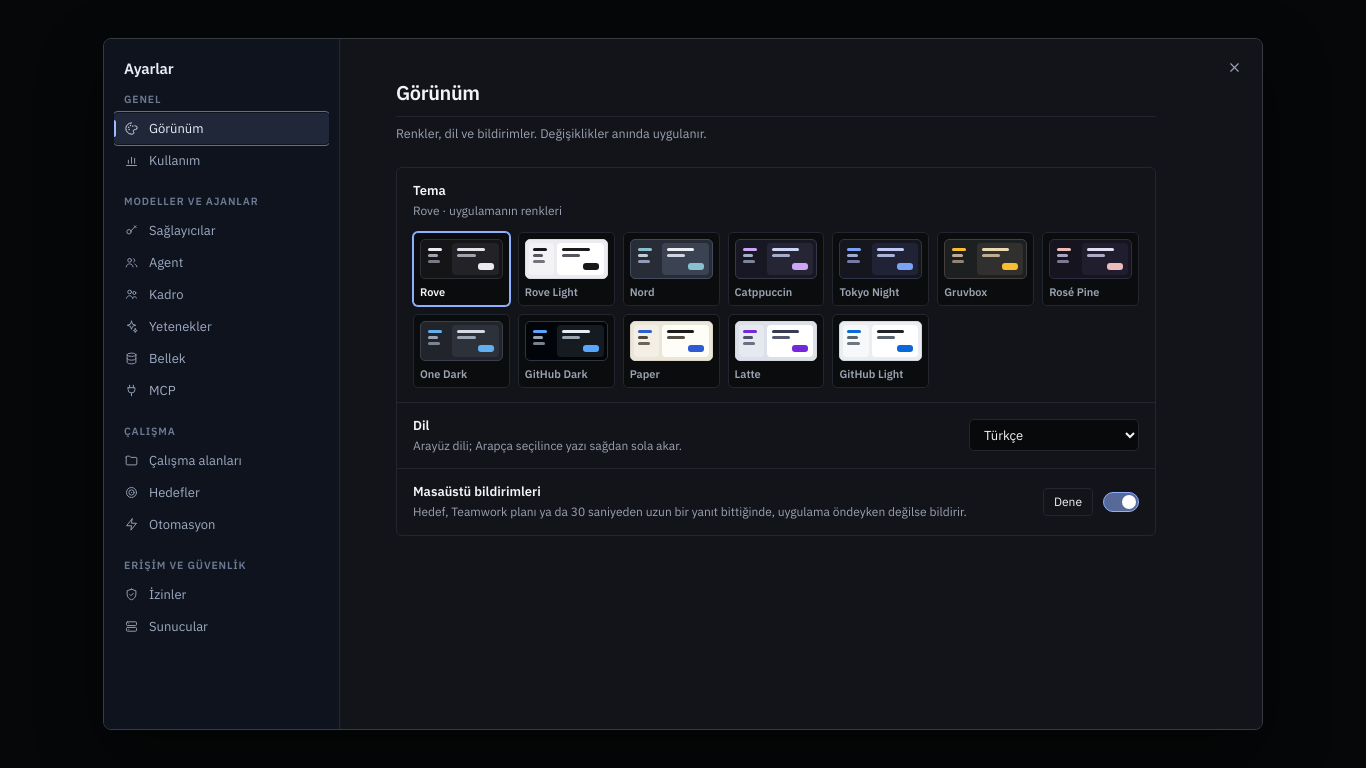
settings: appearance › fits in one card: theme tiles, a language select, a notification switch
Click the radio button labelled "Nord": (671, 269) [623,232,720,306]
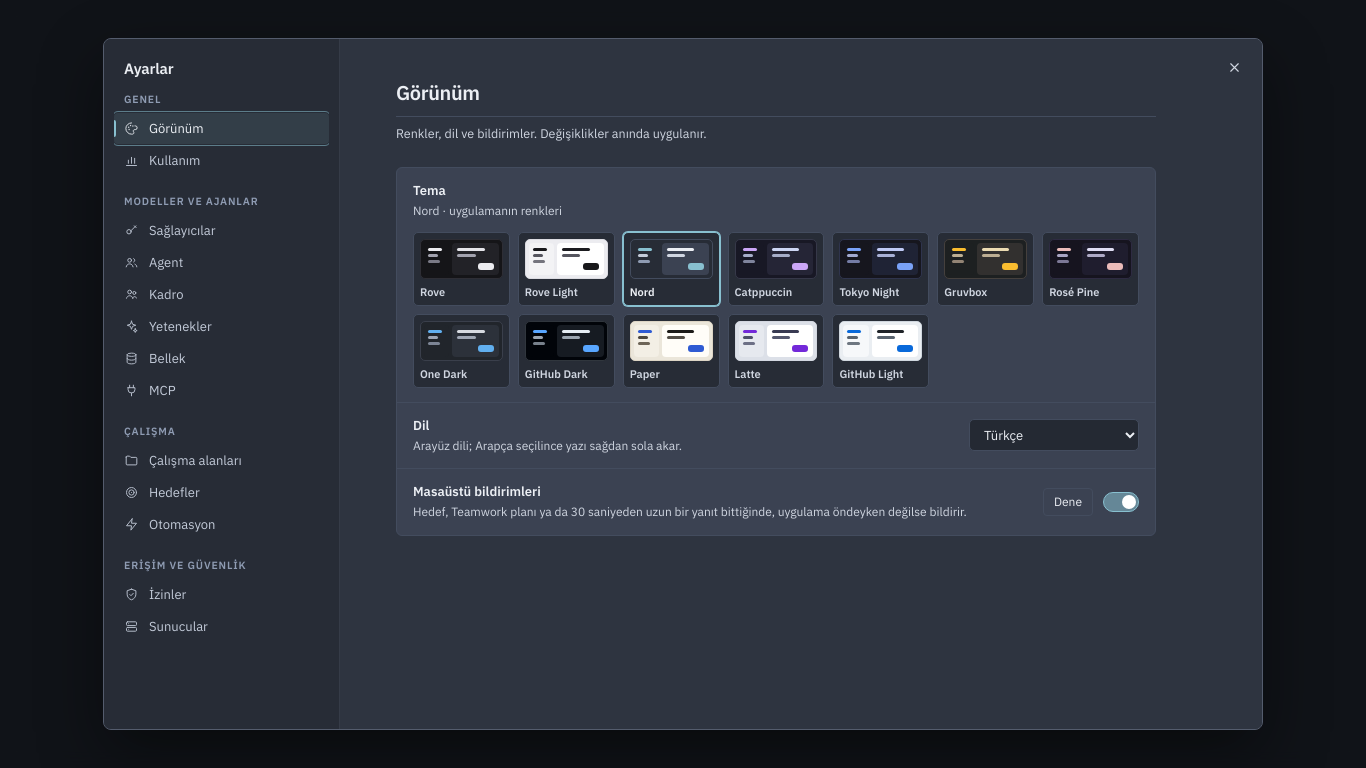
Expected: the button "English" is not shown
Now the radio button labelled "Nord" is checked, box [623,232,720,306]
Now the radio button labelled "Rove" is not checked, box [413,232,510,306]
Select "English" in the dropdown named "Dil": (1054, 436) [969,420,1139,452]
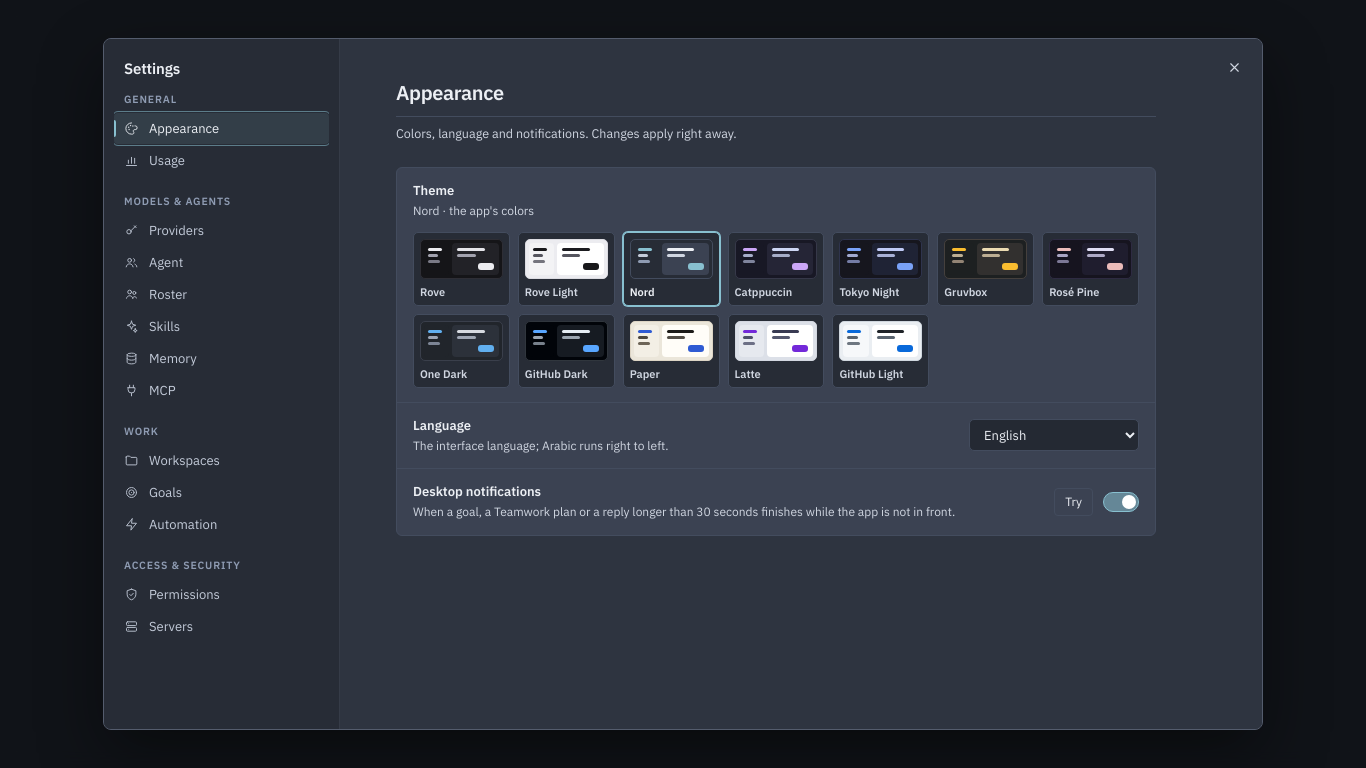
Click the checkbox named "Desktop notifications": (1121, 502) [1103,492,1139,512]
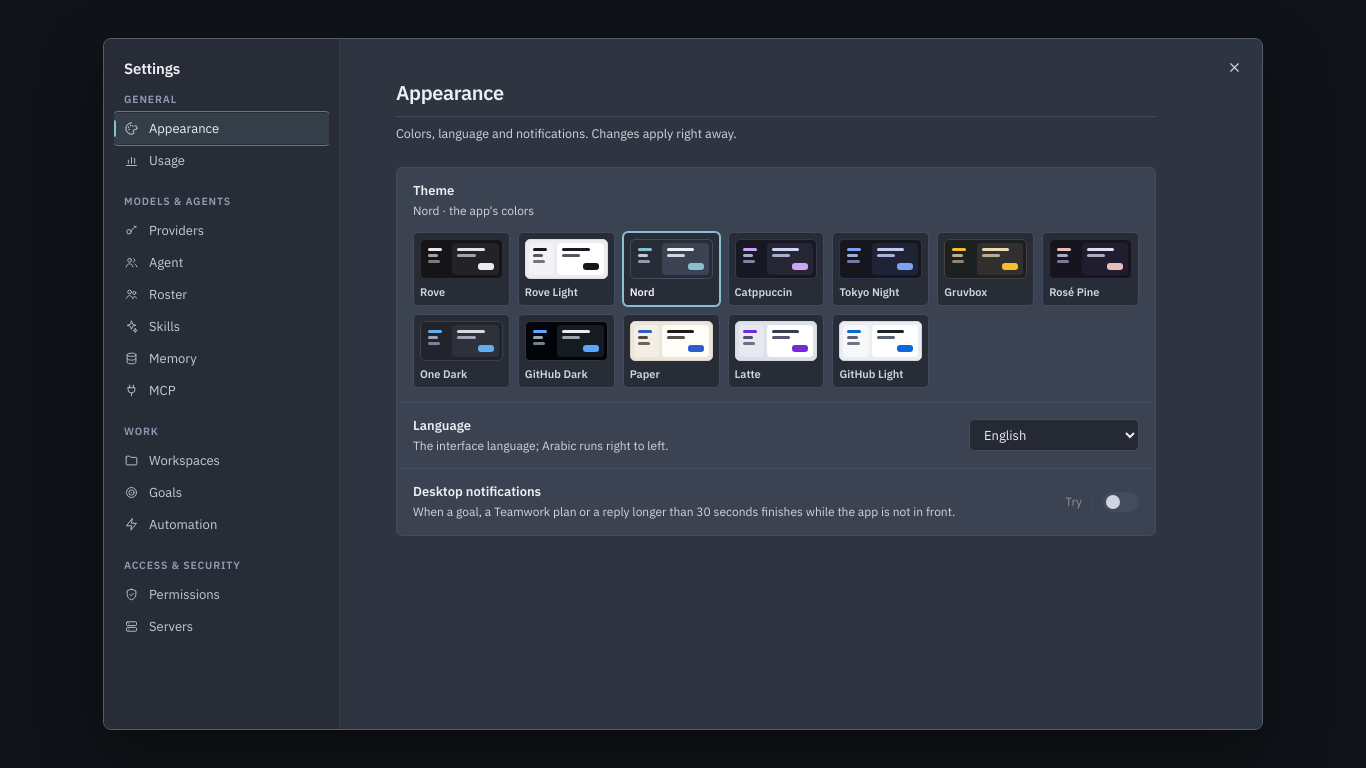
Expected: the number of elements with class "set-row" is 3, [397,168,1155,402]; [397,402,1155,468]; [397,468,1155,535]
Now the button "Try" is disabled, box [1054,488,1093,516]
